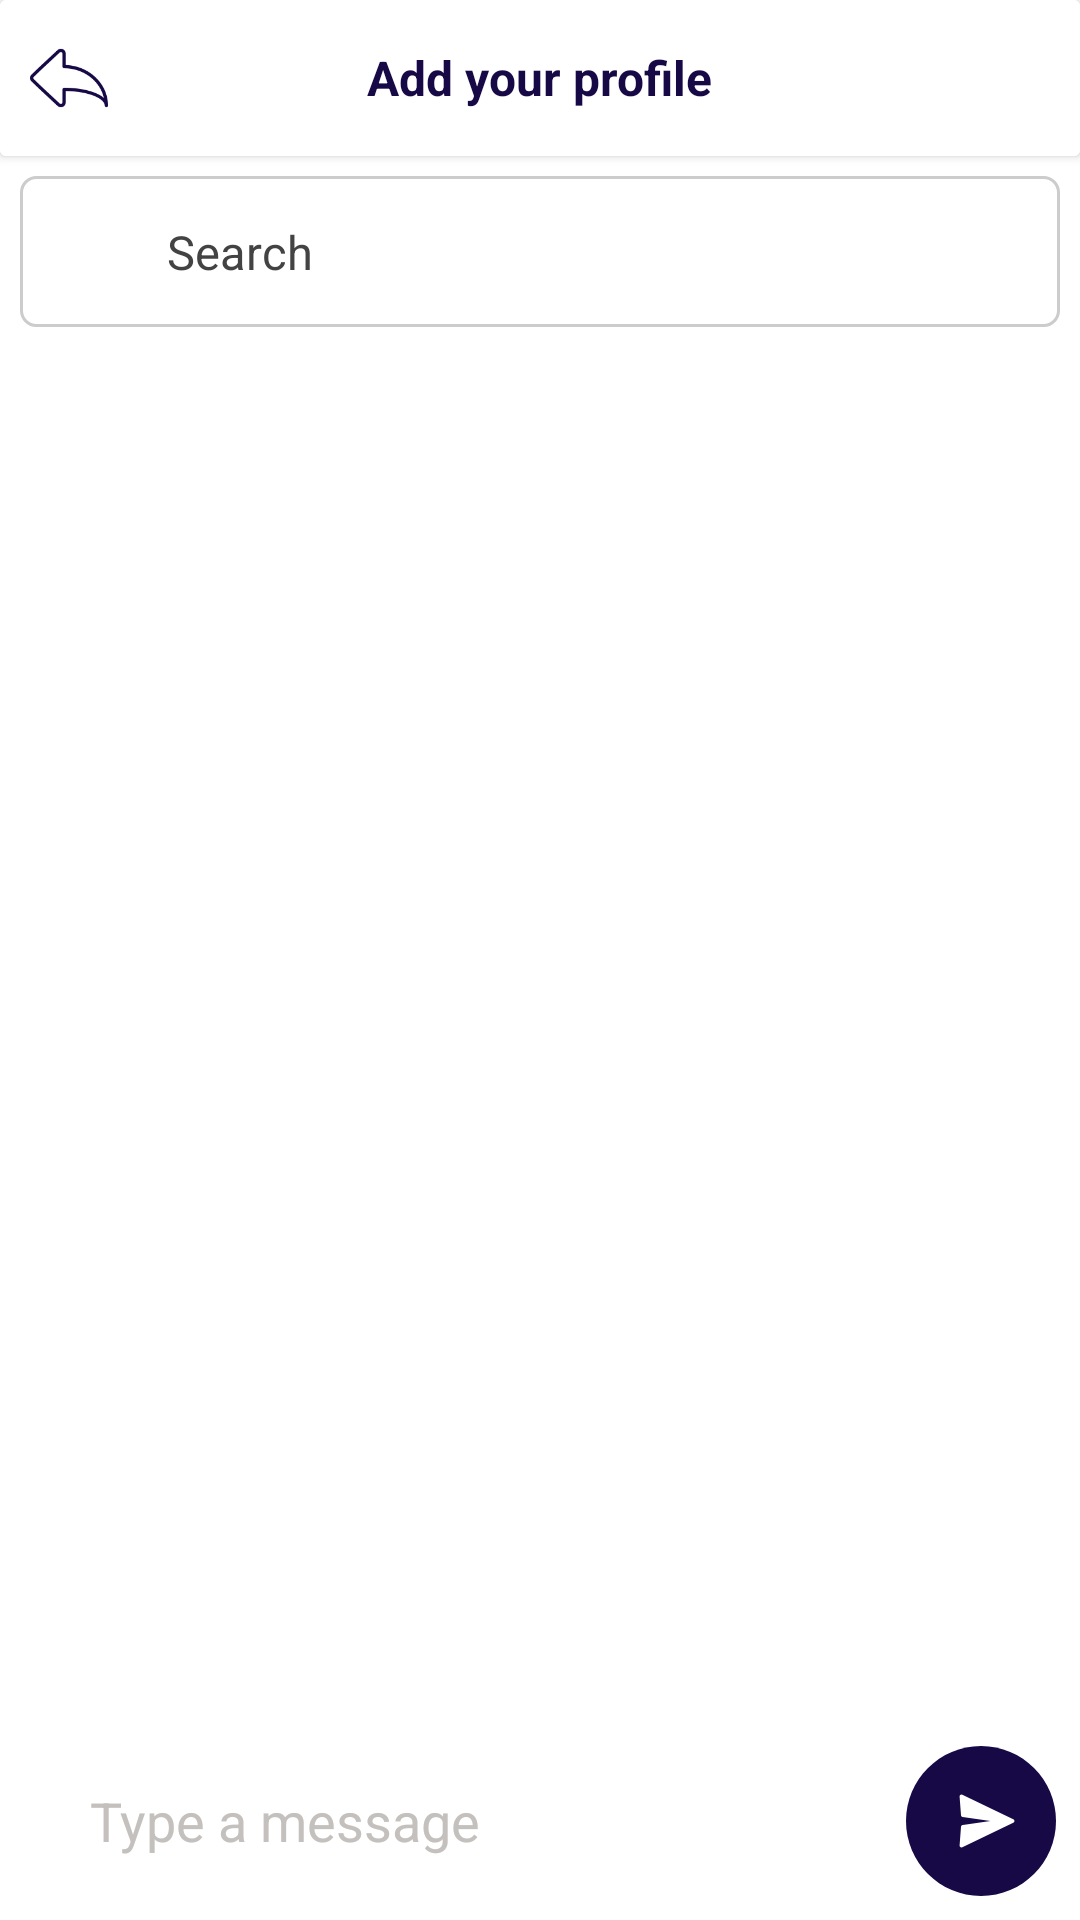

Locate icon controls on the screen. Image size 1080px×1920px, boxes as (x1, y1, x2, y2).
return: (30, 49, 108, 107)
send: (906, 1746, 1056, 1896)
